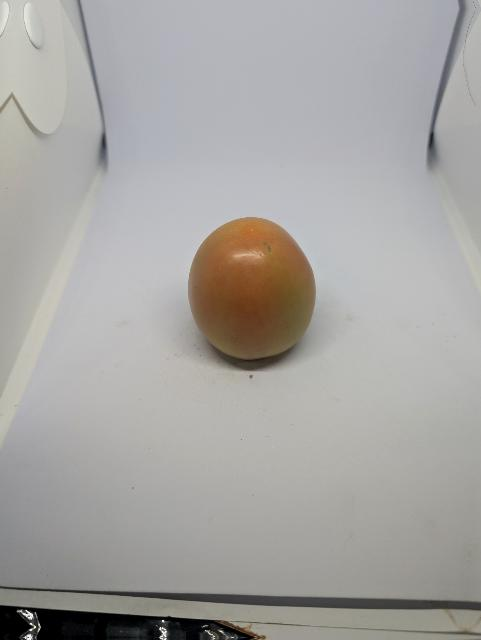turning: (185, 209, 321, 373)
